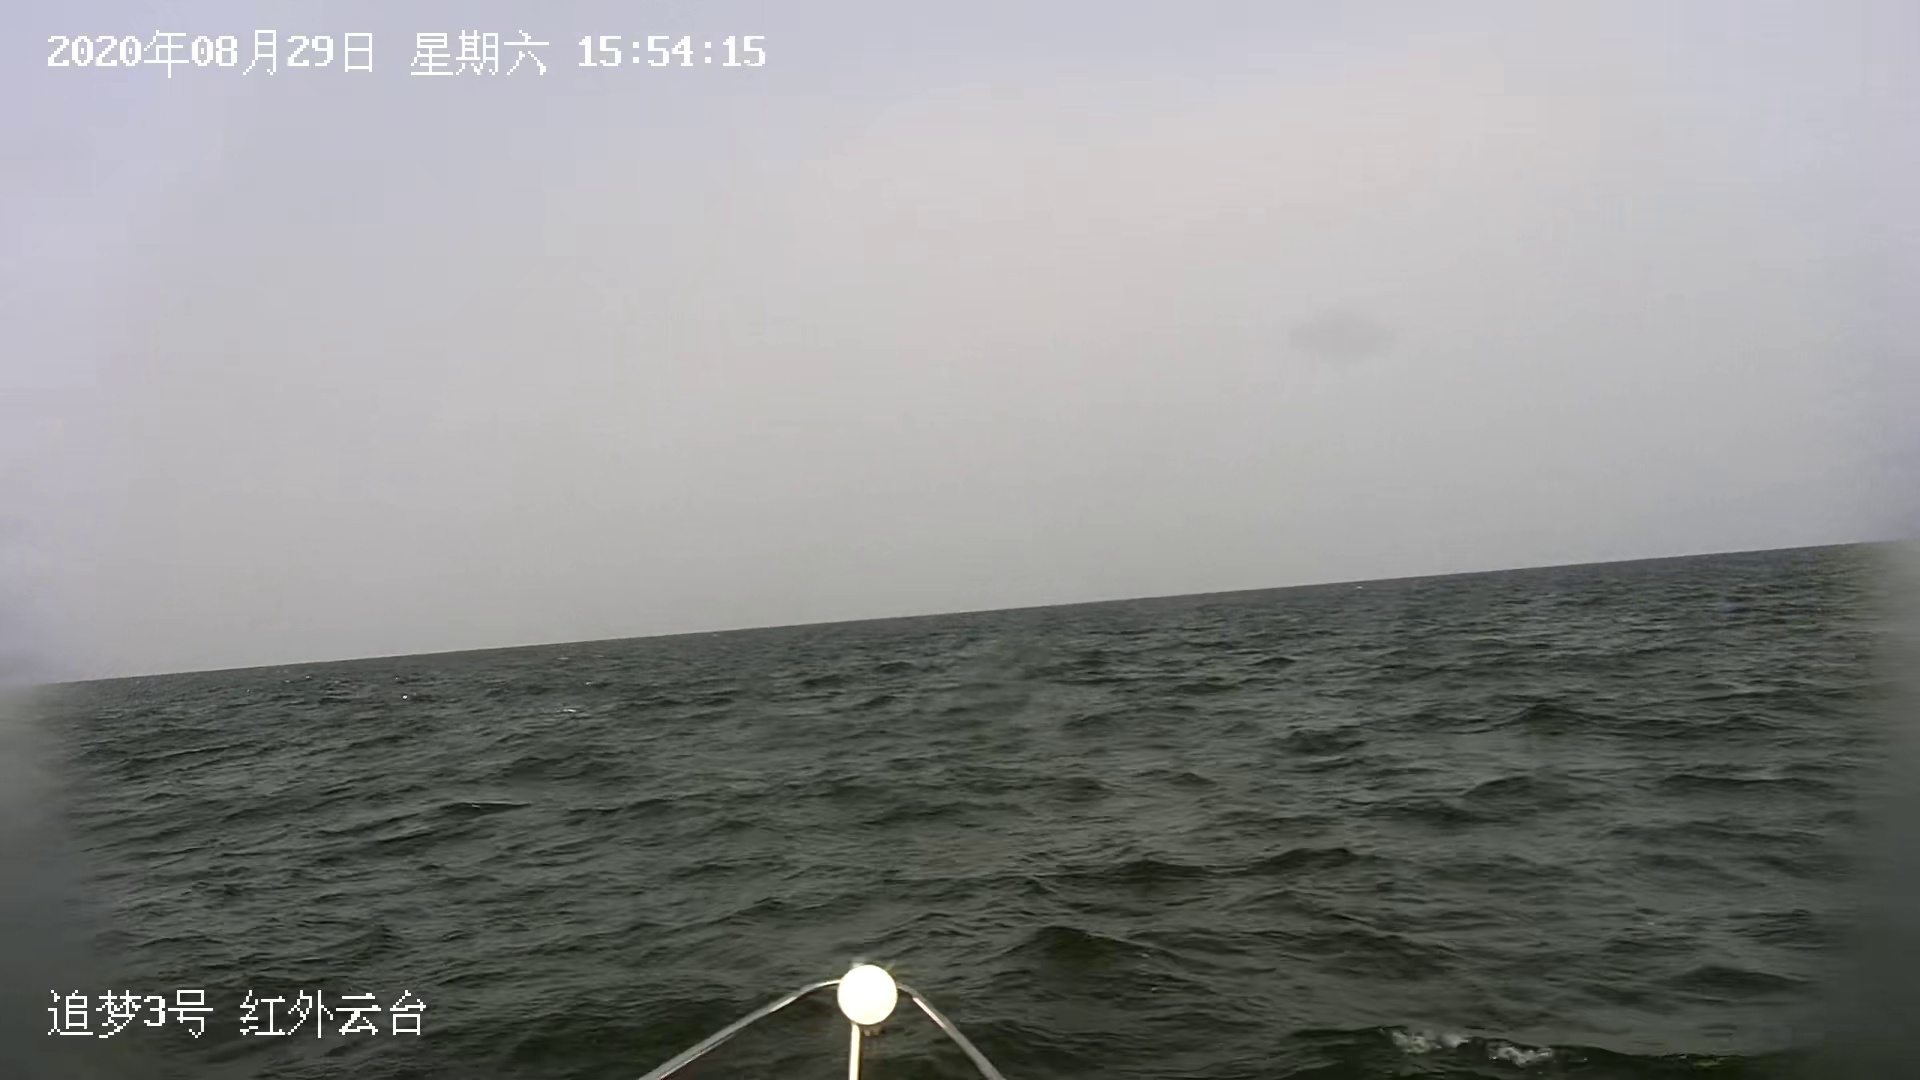this: (632, 957, 1030, 1079)
